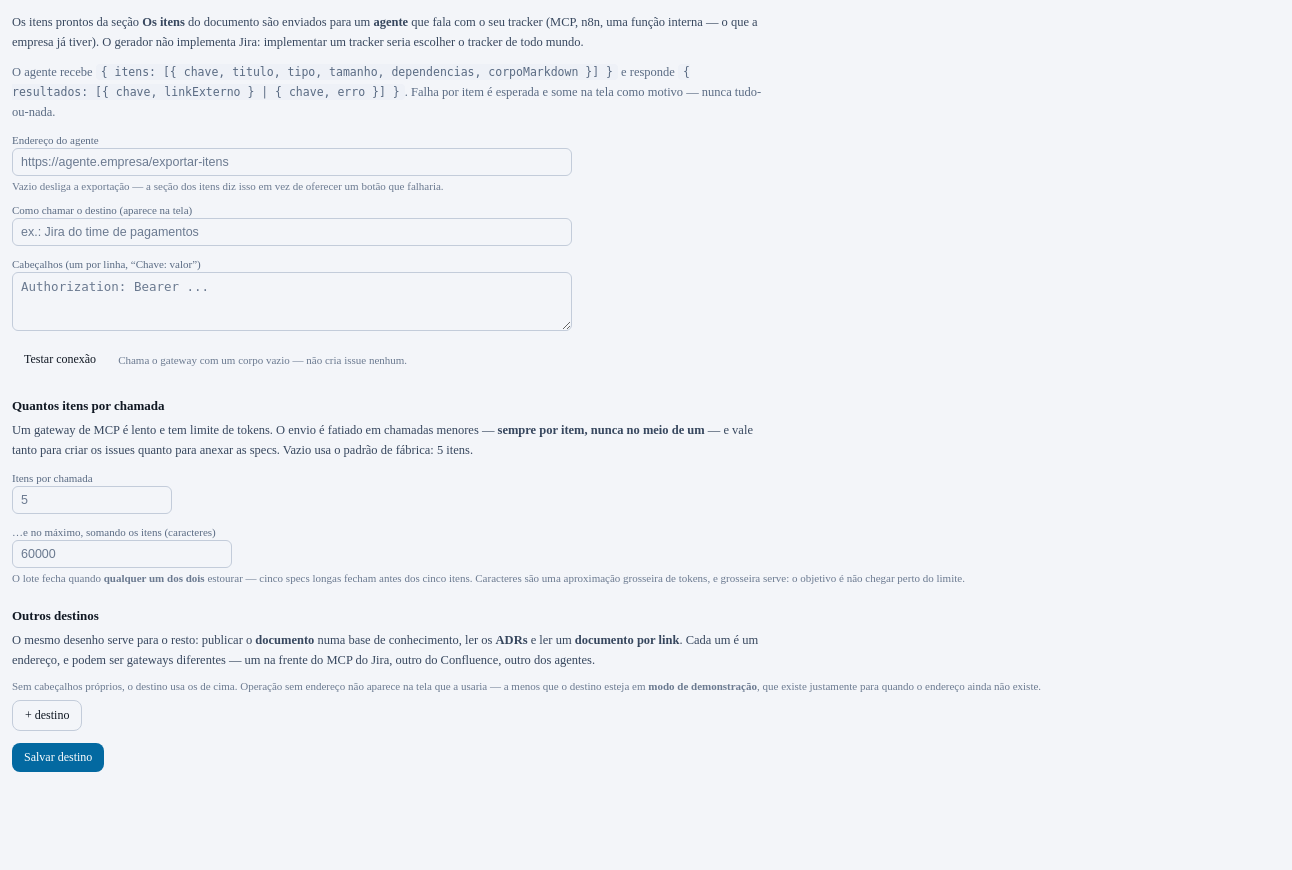
Test: o lote e o contrato na tela (SPEC-120) › fatia D — o contrato do ANEXO é declarado, com o formato e quem converte
Check: the element with test id "destinos-do-gateway" is shown, box [12,608,1041,731]
Click the button with test id "adicionar-destino" at [47, 716], box [12,700,82,731]
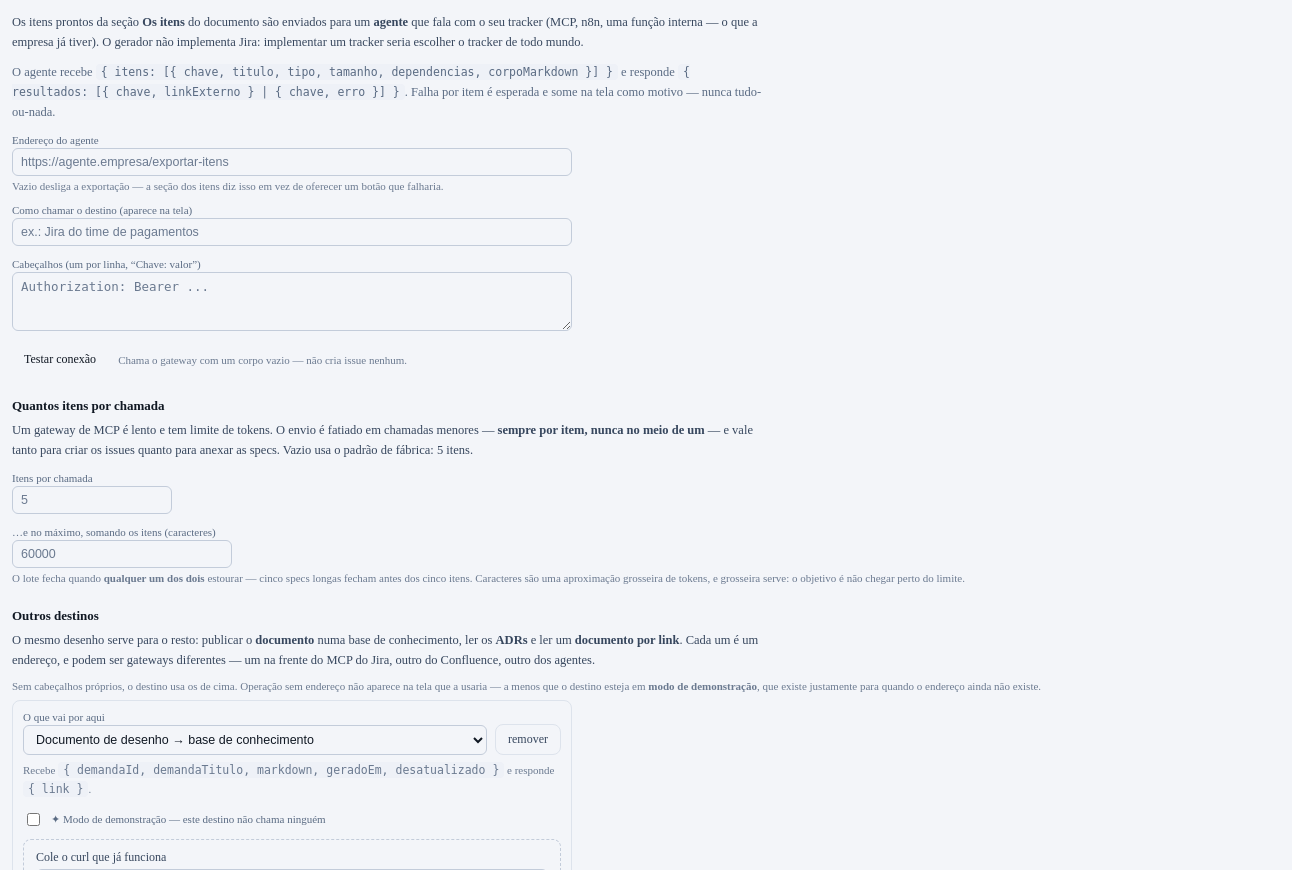
Select "Spec do item → anexar ao issue já exportado" in the dropdown named "Operação do destino 1" at [255, 740], box [23,725,487,755]
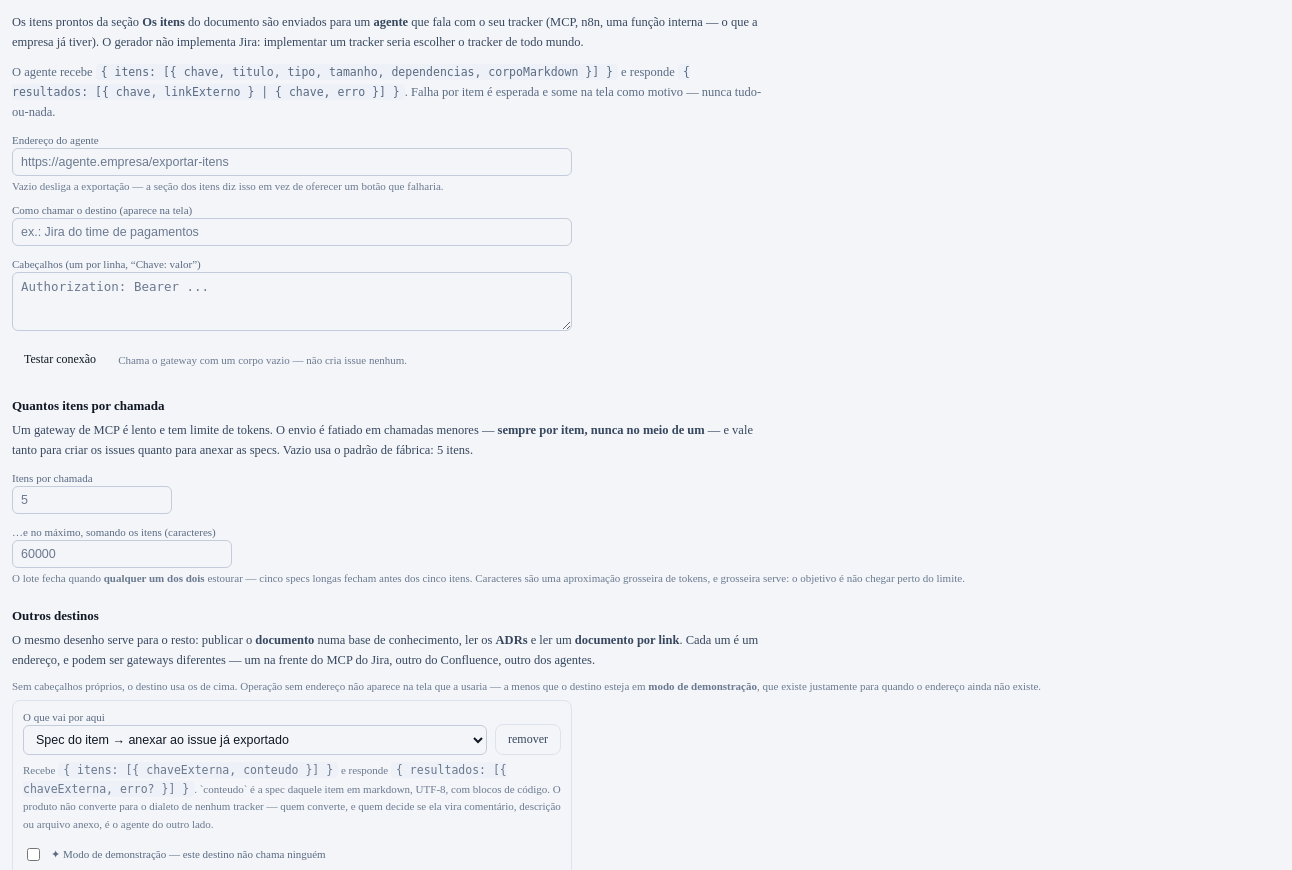
Check: the element with test id "contrato-0" shows "{ itens: [{ chaveExterna, conteudo }] }", box [63,763,333,777]
Check: the element with test id "contrato-0" shows "markdown, UTF-8, com blocos de código", box [23,783,561,830]
Check: the element with test id "contrato-0" shows "quem converte", box [23,783,561,830]
